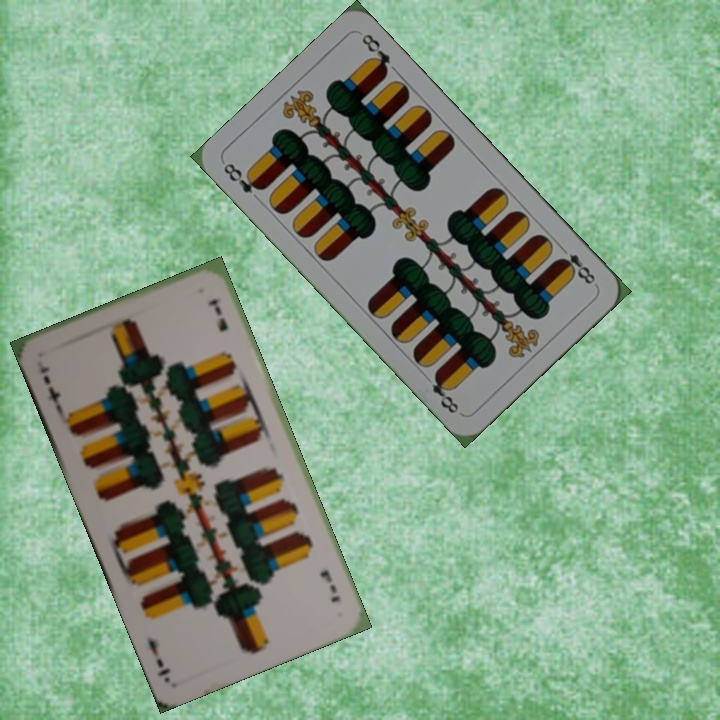E7: (35, 362, 65, 414), (315, 565, 343, 605)
E8: (554, 241, 598, 287), (219, 159, 267, 196)
